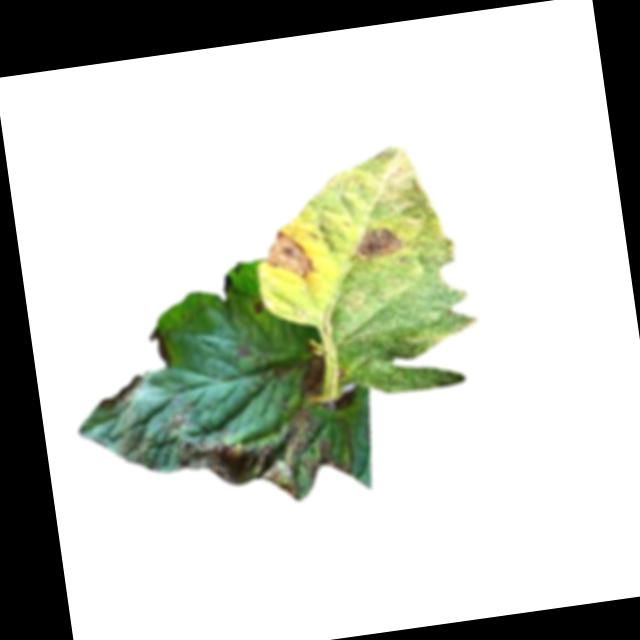Early_blight: (172, 400, 359, 518), (264, 223, 321, 283), (350, 223, 405, 261), (95, 374, 148, 410), (143, 323, 174, 370), (293, 357, 326, 399), (253, 302, 269, 316)
